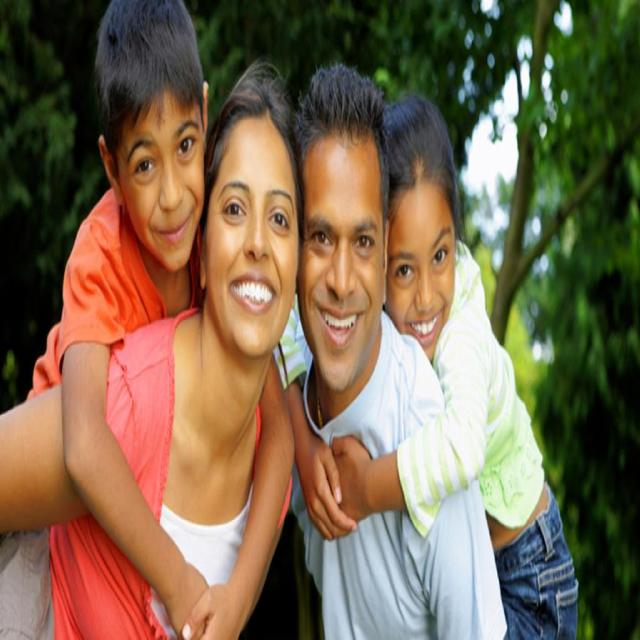nomask: (210, 110, 299, 360), (300, 128, 382, 392), (120, 82, 202, 272), (393, 185, 455, 370)
